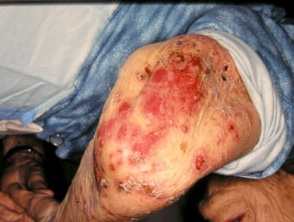SJS-TEN: (36, 0, 294, 222)
